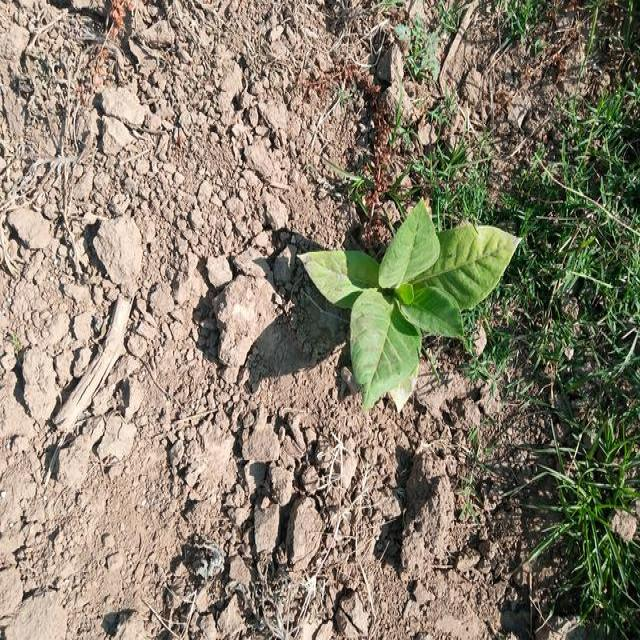crop: (305, 200, 518, 404)
